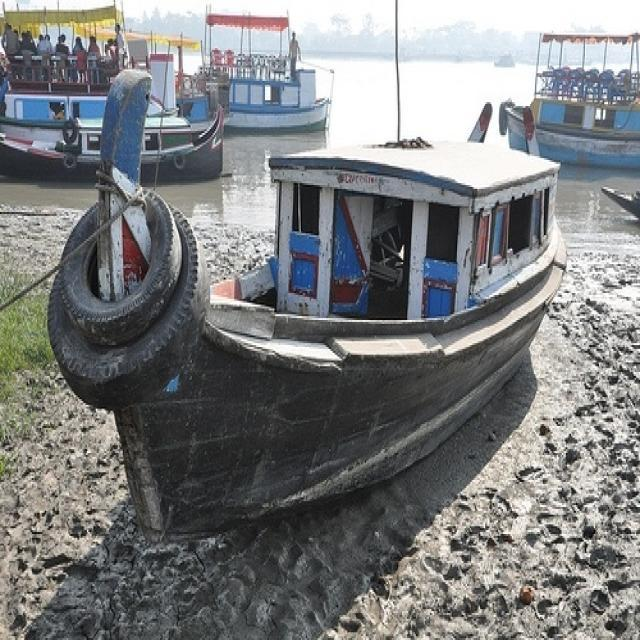boat: (76, 128, 583, 544), (170, 50, 353, 139), (0, 117, 229, 170)
